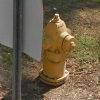Hydrant: (38, 11, 83, 93)
